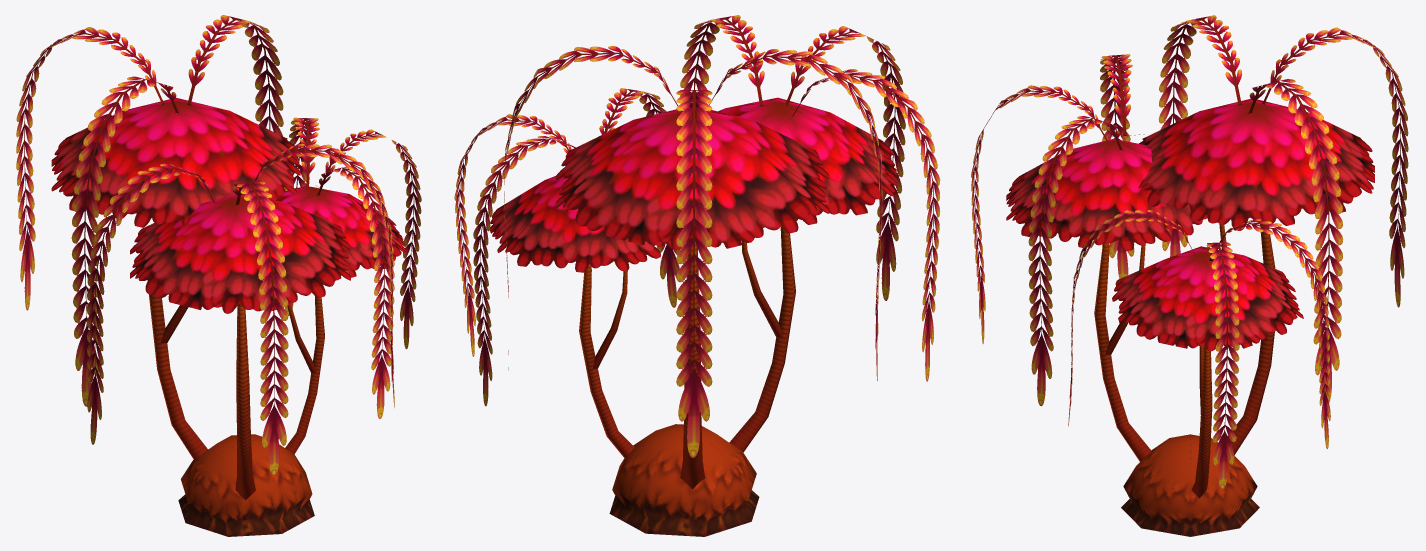
File: Red_Tree_07a.FBX
3 views of the same model, side by side, from view 1: azimuth 30°, elevation 25°; view 2: azimuth 150°, elevation 25°; view 3: azimuth 270°, elevation 25° (orthographic). The views are drawn at different scales.
Parts seen in each view (by area): view 1: Red_Tree_07a; view 2: Red_Tree_07a; view 3: Red_Tree_07a.
Boxes of the visible parts, x1,y1,x2,y2 form: Red_Tree_07a: (16,15,421,536); Red_Tree_07a: (454,15,940,536); Red_Tree_07a: (971,15,1408,536).
Size of the model in its own units: 301 by 334 by 308.
